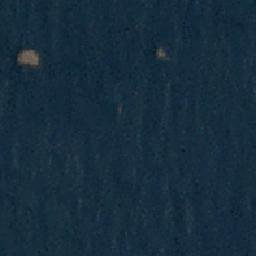debris: (12, 47, 46, 67), (156, 46, 167, 60)
